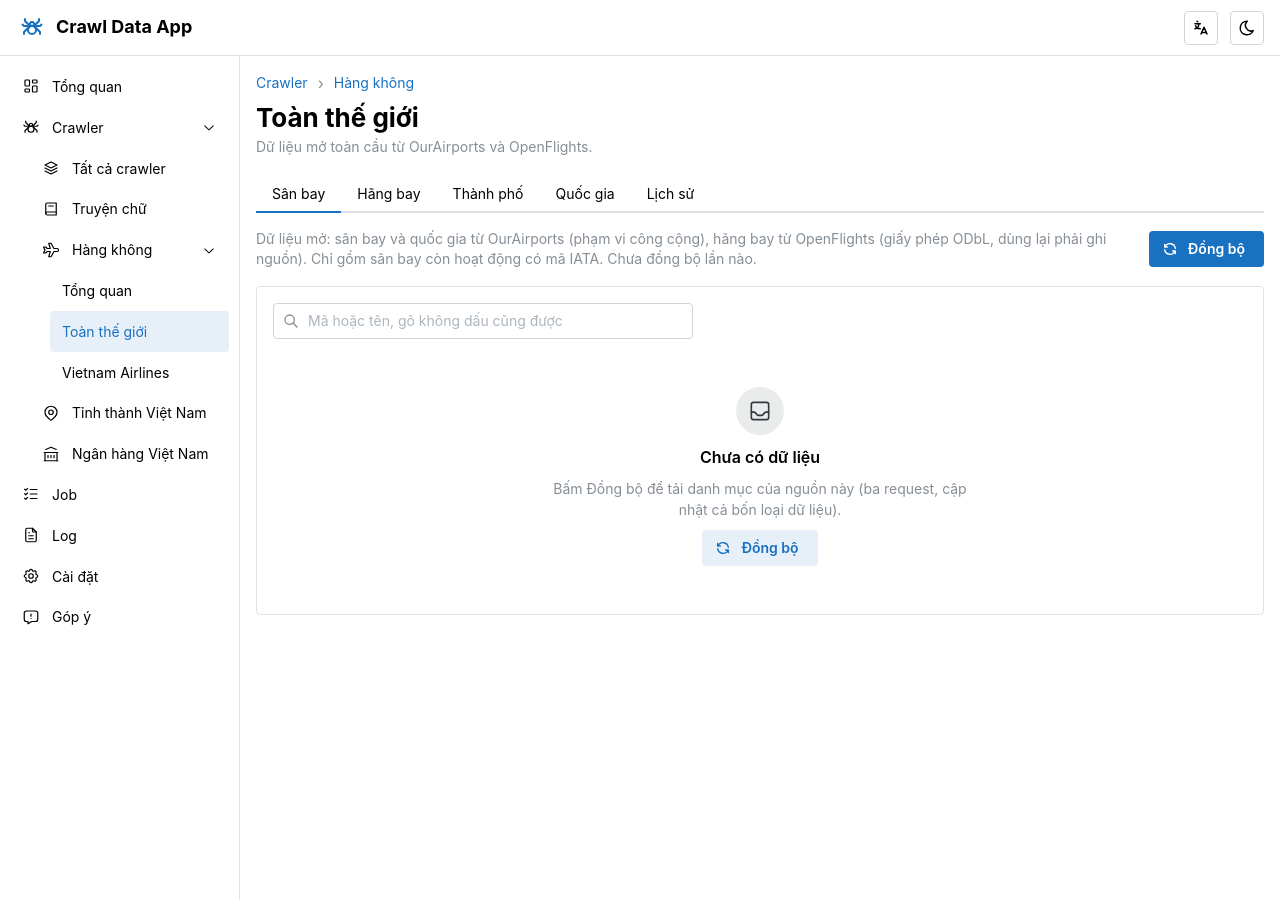
App — khu vực Crawler › nguồn chưa có dữ liệu thì mời đồng bộ; đồng bộ xong bảng tự có dữ liệu
Expected: the text "Chưa có dữ liệu" is shown, [700,445,820,470]
Expected: the text "Chưa đồng bộ lần nào" is shown, [607,250,757,267]
Step 1. Click the button "Đồng bộ" in the row of "Chưa đồng bộ lần nào." → (1206, 249), box [1149,231,1264,267]
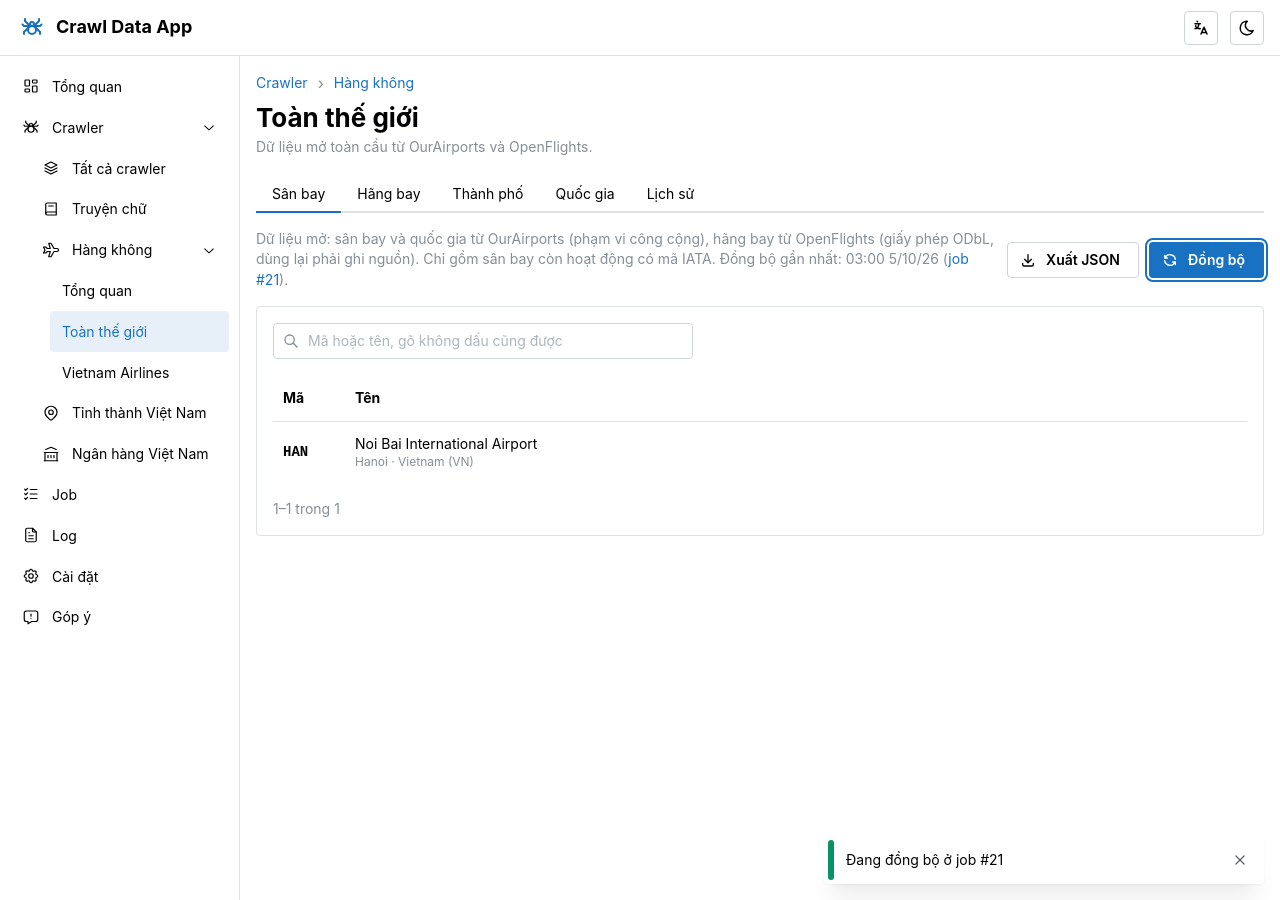
Expected: the text "Noi Bai International Airport" is shown, [355,435,537,452]
Expected: the text "Đang đồng bộ ở job #21" is shown, [846,851,1003,868]
